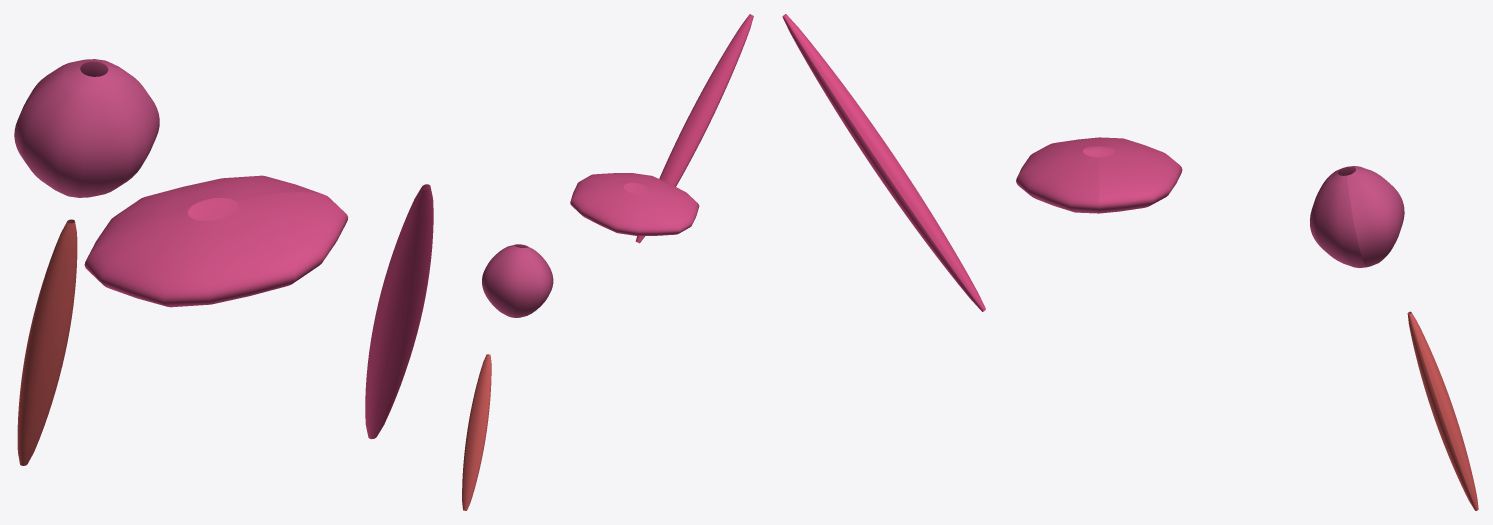
File: muscular.glb
3 renders of one model, left to right at view 1: azimuth 30°, elevation 25°; view 2: azimuth 150°, elevation 25°; view 3: azimuth 270°, elevation 25°, orthographic. The views are drawn at different scales.
Visible parts, largest first — view 1: Mesh_Feline_LatissimusDorsi, Mesh_Feline_GluteusMedius, Mesh_Feline_Brachiocephalicus, Mesh_Feline_Gastrocnemius; view 2: Mesh_Feline_LatissimusDorsi, Mesh_Feline_GluteusMedius, Mesh_Feline_Brachiocephalicus, Mesh_Feline_Gastrocnemius; view 3: Mesh_Feline_LatissimusDorsi, Mesh_Feline_GluteusMedius, Mesh_Feline_Brachiocephalicus, Mesh_Feline_Gastrocnemius.
Boxes of the visible parts, box(x1,y1,x2,y2) form: Mesh_Feline_LatissimusDorsi: box(84, 175, 348, 307); Mesh_Feline_GluteusMedius: box(14, 59, 159, 197); Mesh_Feline_Brachiocephalicus: box(365, 184, 433, 439); Mesh_Feline_Gastrocnemius: box(17, 219, 77, 465); Mesh_Feline_LatissimusDorsi: box(570, 173, 699, 235); Mesh_Feline_GluteusMedius: box(482, 244, 553, 317); Mesh_Feline_Brachiocephalicus: box(635, 14, 753, 243); Mesh_Feline_Gastrocnemius: box(462, 354, 491, 510); Mesh_Feline_LatissimusDorsi: box(1016, 137, 1182, 213); Mesh_Feline_GluteusMedius: box(1310, 166, 1404, 267); Mesh_Feline_Brachiocephalicus: box(782, 14, 985, 311); Mesh_Feline_Gastrocnemius: box(1407, 311, 1478, 510).
Size of the model in its own units: 0.2195 by 0.5983 by 0.8097.
